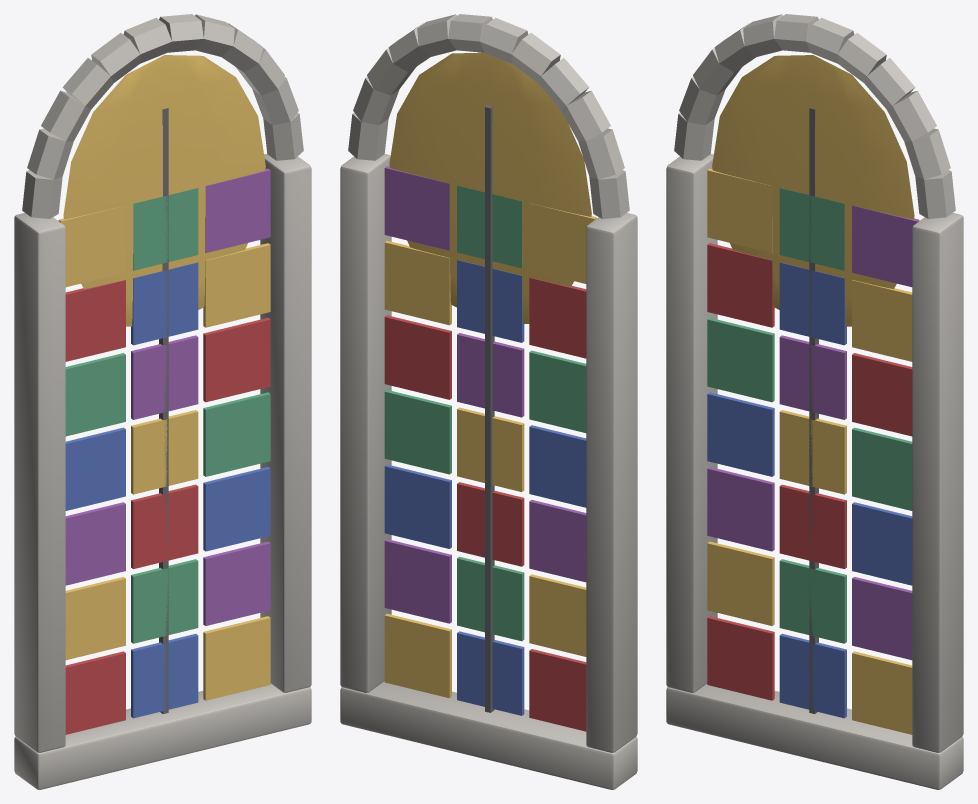
Rendered from chapel_window.gltf.
3 renders of one model, left to right at view 1: azimuth 30°, elevation 25°; view 2: azimuth 150°, elevation 25°; view 3: azimuth 330°, elevation 25°, orthographic.
Visible parts, largest first — view 1: Body; view 2: Body; view 3: Body.
Boxes of the visible parts, <box> form: Body: <box>14,14,311,789</box>; Body: <box>340,14,637,789</box>; Body: <box>666,14,963,789</box>.
Bounding box in the file's own units: 1.9 × 4.81 × 0.3.
